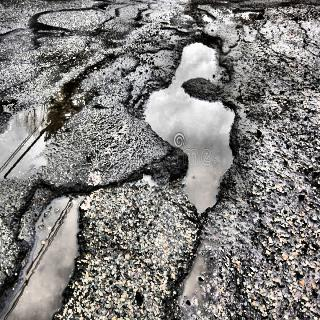pothole: (139, 28, 239, 225), (0, 49, 115, 175), (0, 189, 97, 320)
